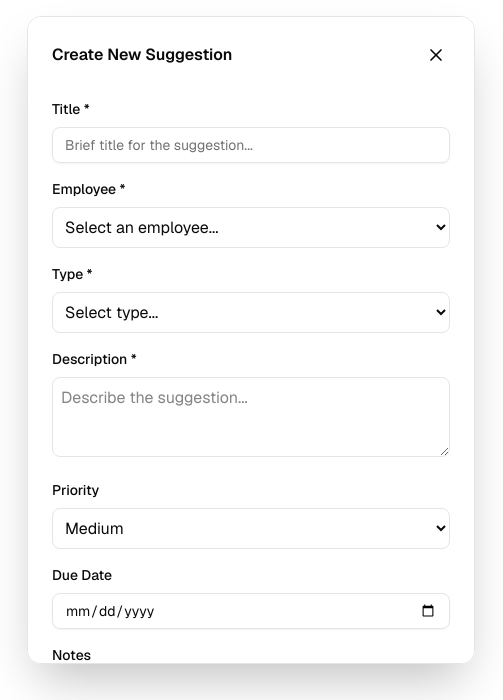
Test: SuggestionModal › Form Validation › shows validation error for specific missing fields
Type "Test Title" into the field with placeholder "Brief title for the suggestion...".
click(251, 145); type("Test Title")  # box [52,127,450,163]
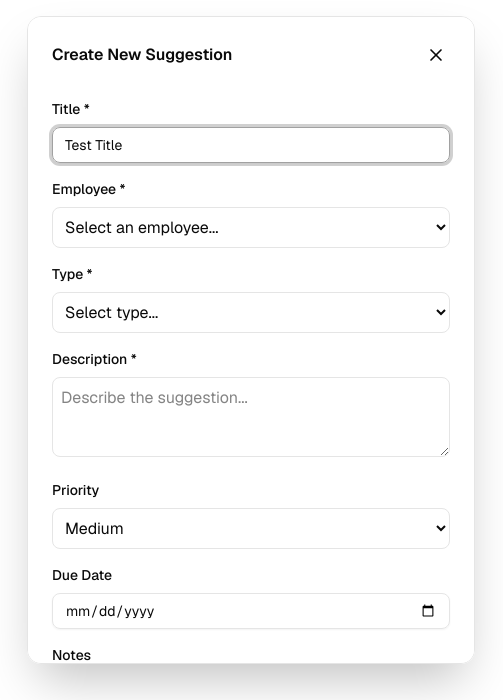
Select "Equipment" in the dropdown showing "Select type..." below "Type *" at (251, 312), box [52,292,450,333]
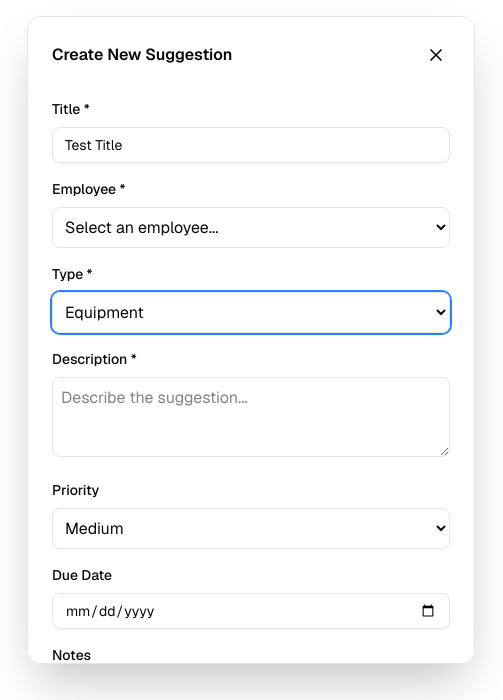
Type "Test description" into the text box with placeholder "Describe the suggestion...".
click(251, 417); type("Test description")  # box [52,377,450,457]
(page scrolled)
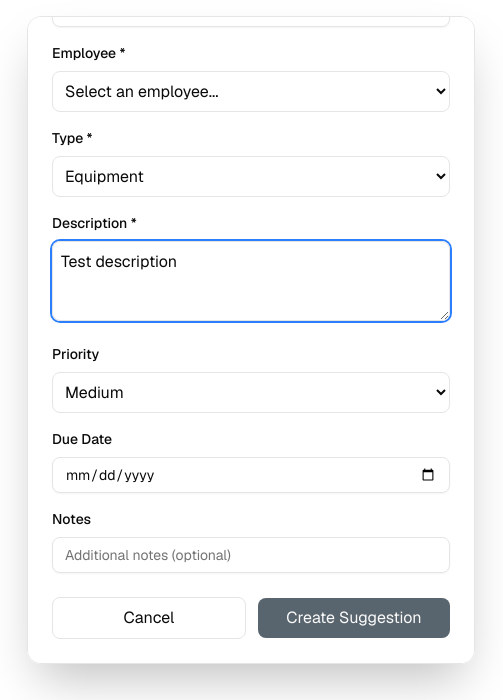
Click the button "Create Suggestion".
click(354, 618)  # box [258,598,450,638]
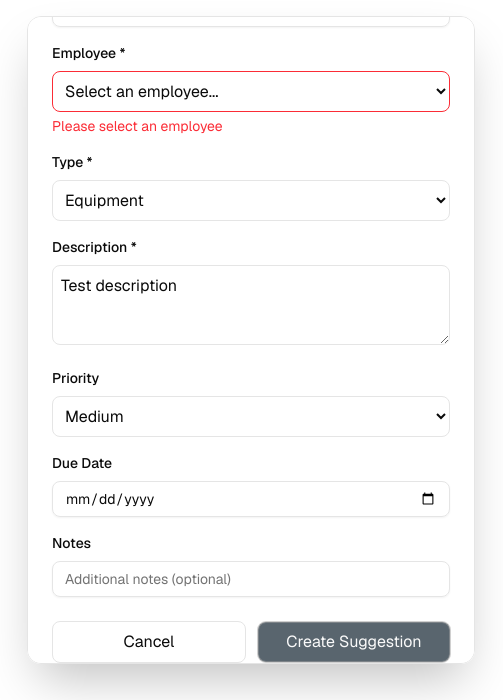
Check: the text "Please select an employee" is shown, box [52,117,223,135]
